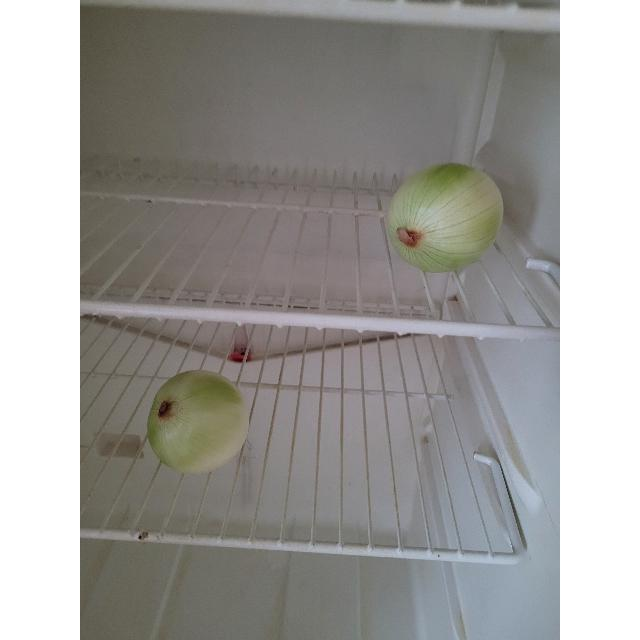onion: (384, 160, 506, 272), (146, 367, 252, 473)
